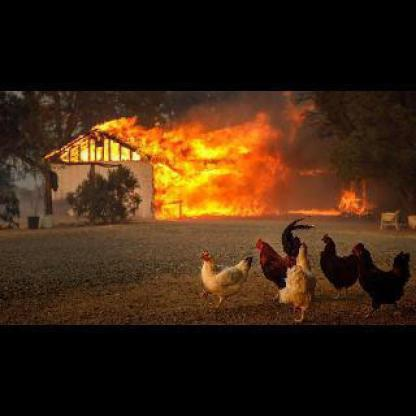fire: (107, 118, 310, 219)
